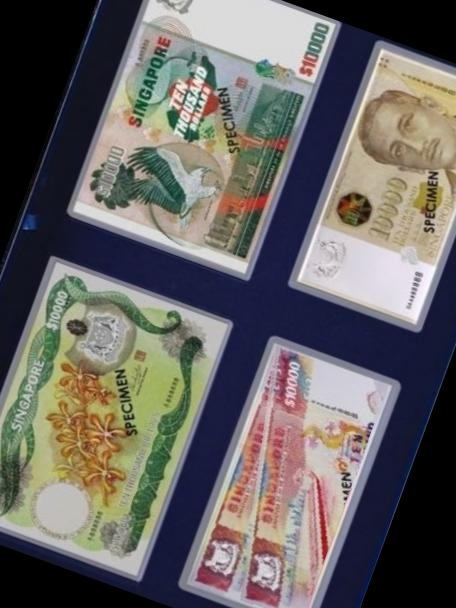10000SingaporeDollar: (189, 345, 388, 608)
